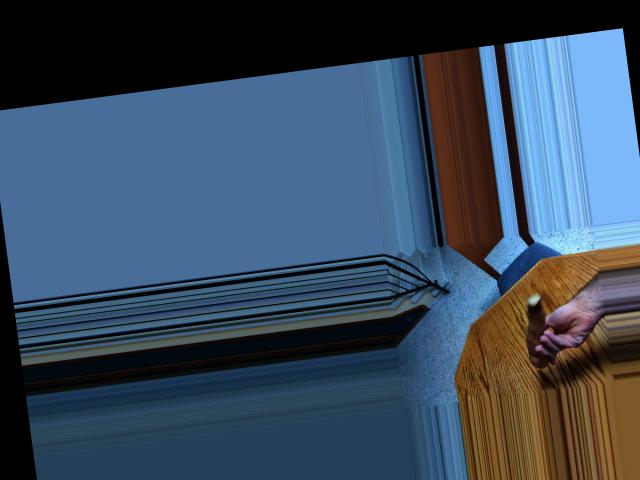sweet_potato: (519, 291, 558, 367)
